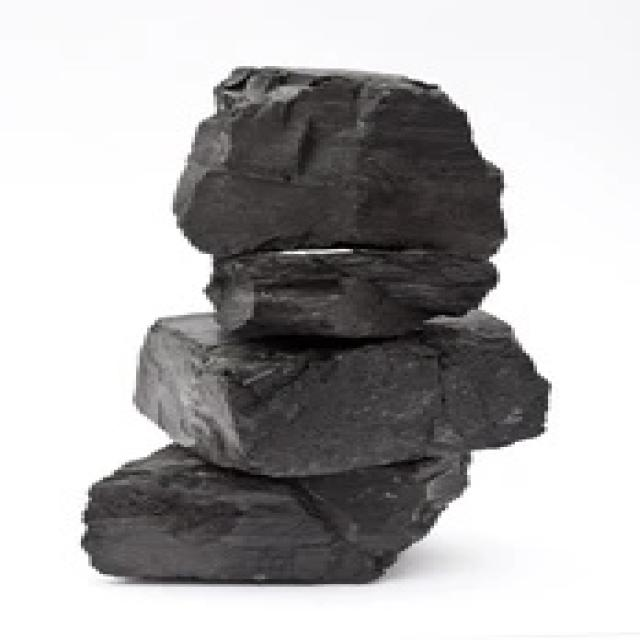Sedimentary: (103, 61, 552, 597)
